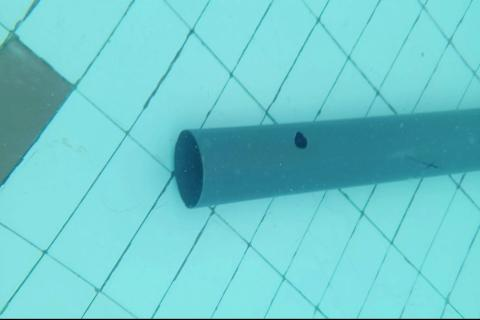kebocoran: (294, 130, 307, 150)
keretakan: (405, 153, 440, 170)
